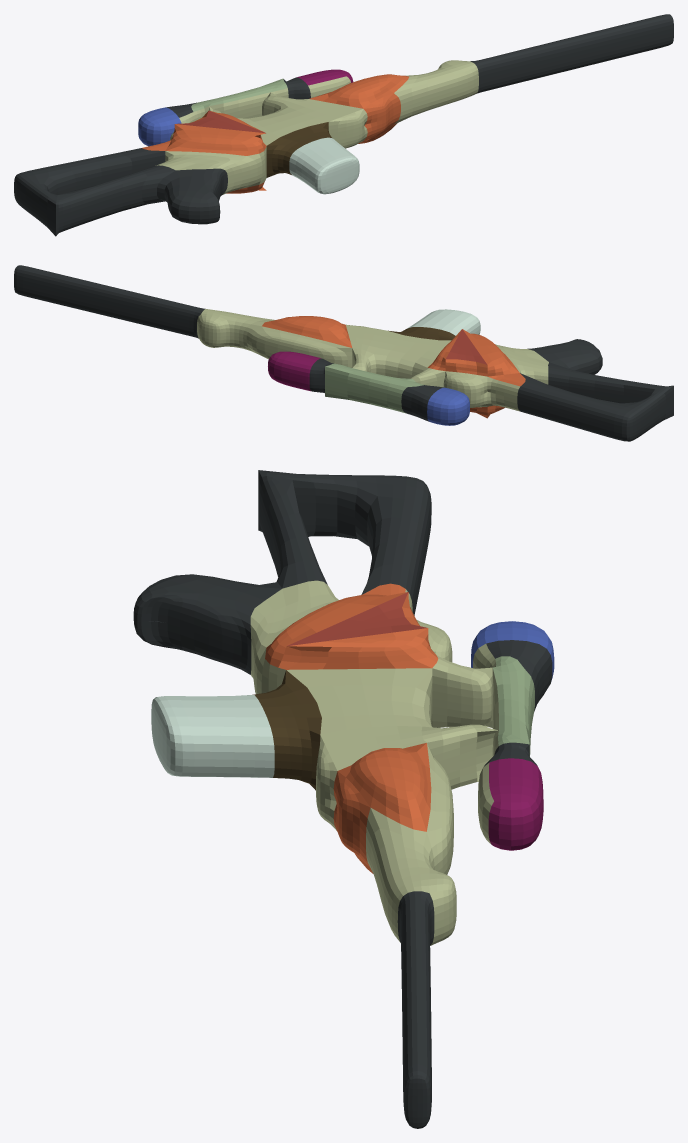
Rendered from Sniper.glb.
3 renders of one model, top to bottom at view 1: azimuth 30°, elevation 25°; view 2: azimuth 150°, elevation 25°; view 3: azimuth 270°, elevation 25°, orthographic. The views are drawn at different scales.
Parts seen in each view (by area): view 1: sniper; view 2: sniper; view 3: sniper.
Boxes of the visible parts, box(x1,y1,x2,y2) form: sniper: box(14, 14, 673, 236); sniper: box(14, 265, 673, 441); sniper: box(133, 470, 554, 1128).
Bounding box in the file's own units: 4.55 × 0.3773 × 1.34.
1 material, 1 textured.
